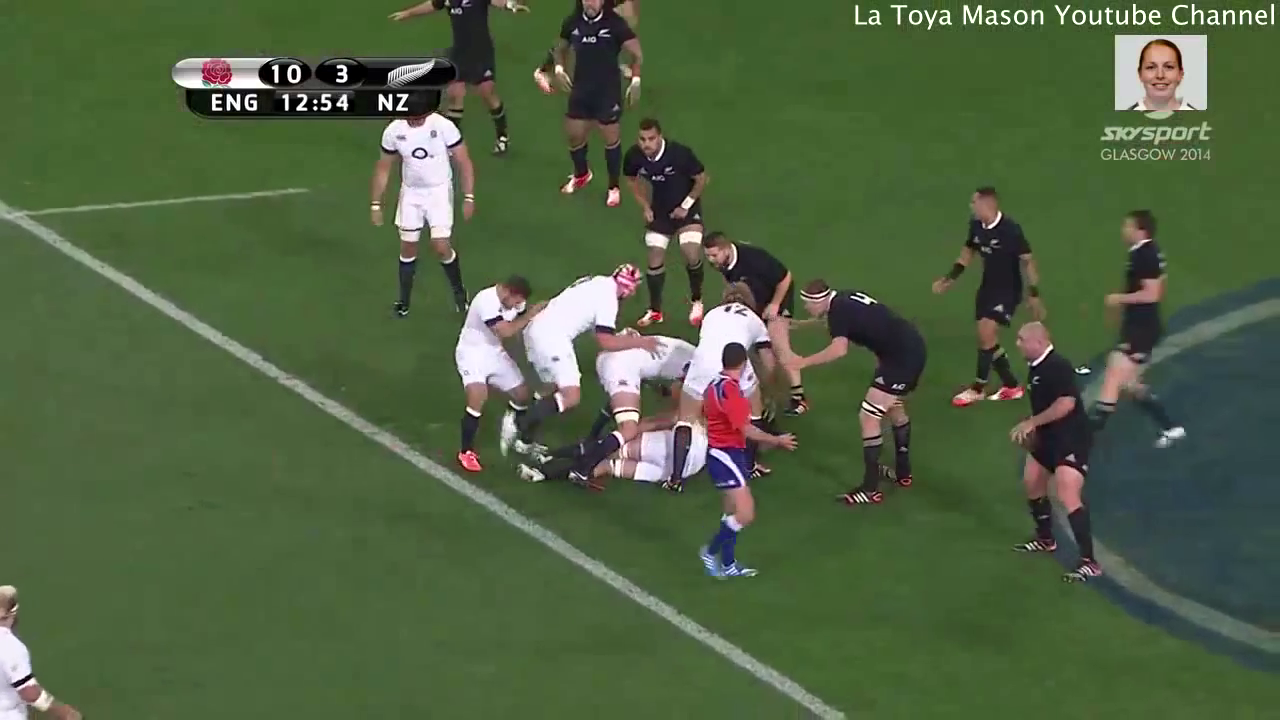player: (793, 275, 929, 514), (1000, 320, 1101, 590), (1092, 200, 1190, 464), (932, 184, 1035, 420), (514, 266, 637, 436), (617, 119, 709, 324), (377, 121, 469, 312), (448, 272, 525, 481), (416, 1, 514, 157), (553, 1, 627, 203), (709, 338, 760, 592), (1, 578, 82, 720), (522, 432, 697, 492), (597, 339, 689, 430), (691, 282, 762, 397), (698, 232, 793, 314)
ruck: (474, 300, 783, 494)
